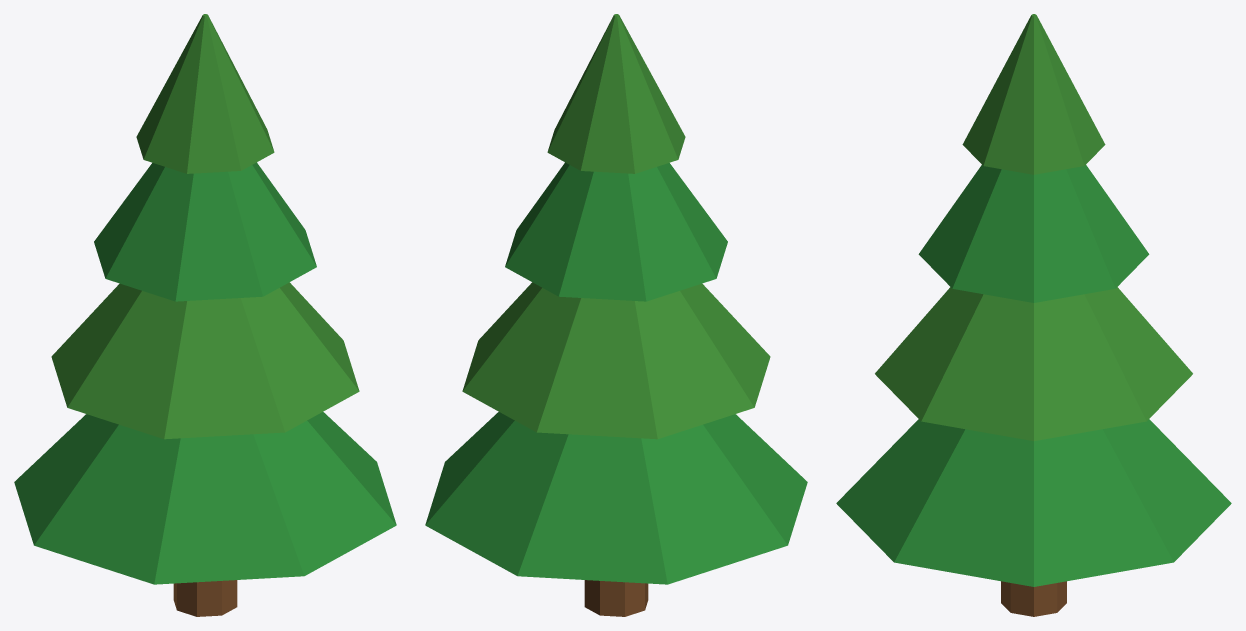
File: Tree_Pine.fbx
The picture shows the model from 3 angles, left to right: view 1: azimuth 30°, elevation 25°; view 2: azimuth 150°, elevation 25°; view 3: azimuth 270°, elevation 25°; orthographic projection.
Parts seen in each view (by area): view 1: Tree_Pine; view 2: Tree_Pine; view 3: Tree_Pine.
Part boxes in pixels (left/top/right/bottom): Tree_Pine: left=14, top=14, right=396, bottom=616; Tree_Pine: left=425, top=14, right=807, bottom=616; Tree_Pine: left=836, top=14, right=1231, bottom=616.
Bounding box in the file's own units: 7.2 × 11.8 × 7.2.
Materials: 1 (1 with a texture image).
